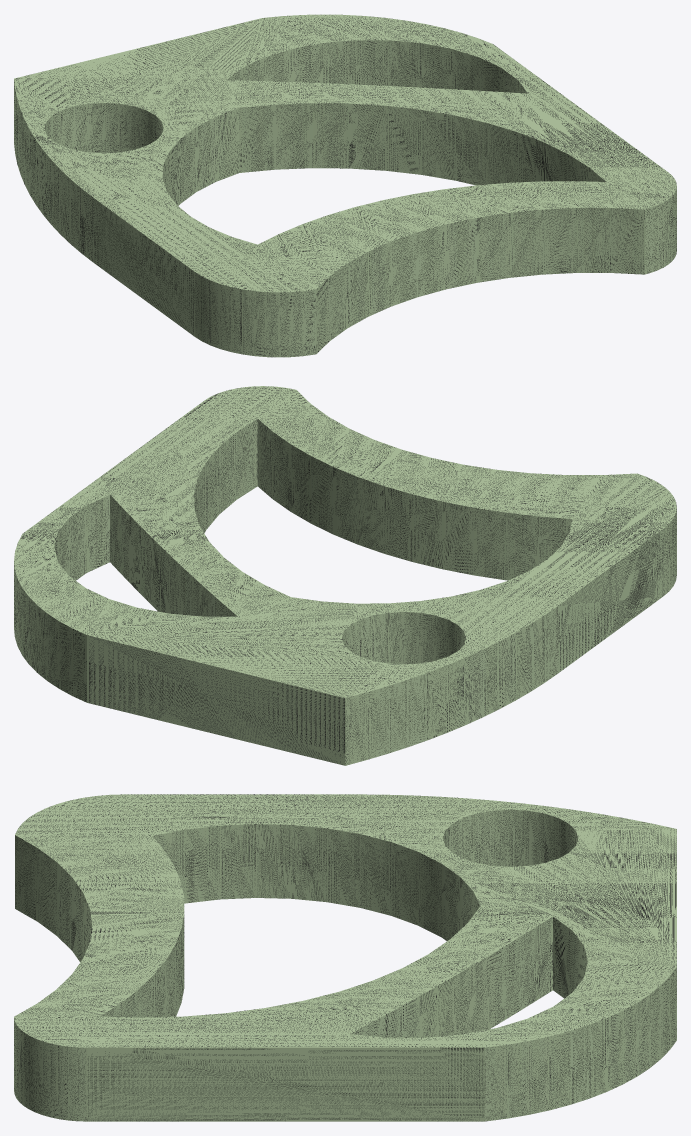
The model's file is original-22.obj.
3 views of the same model, one above another, from view 1: azimuth 30°, elevation 25°; view 2: azimuth 150°, elevation 25°; view 3: azimuth 270°, elevation 25° (orthographic). The views are drawn at different scales.
Visible parts, largest first — view 1: mesh36/mesh36-geometry#mesh36-geometry; view 2: mesh36/mesh36-geometry#mesh36-geometry; view 3: mesh36/mesh36-geometry#mesh36-geometry.
Boxes of the visible parts, left/top/right/bottom form: mesh36/mesh36-geometry#mesh36-geometry: left=14, top=14, right=676, bottom=357; mesh36/mesh36-geometry#mesh36-geometry: left=14, top=386, right=676, bottom=765; mesh36/mesh36-geometry#mesh36-geometry: left=14, top=794, right=676, bottom=1121.
Size of the model in its own units: 0.3223 by 0.0438 by 0.3565.
